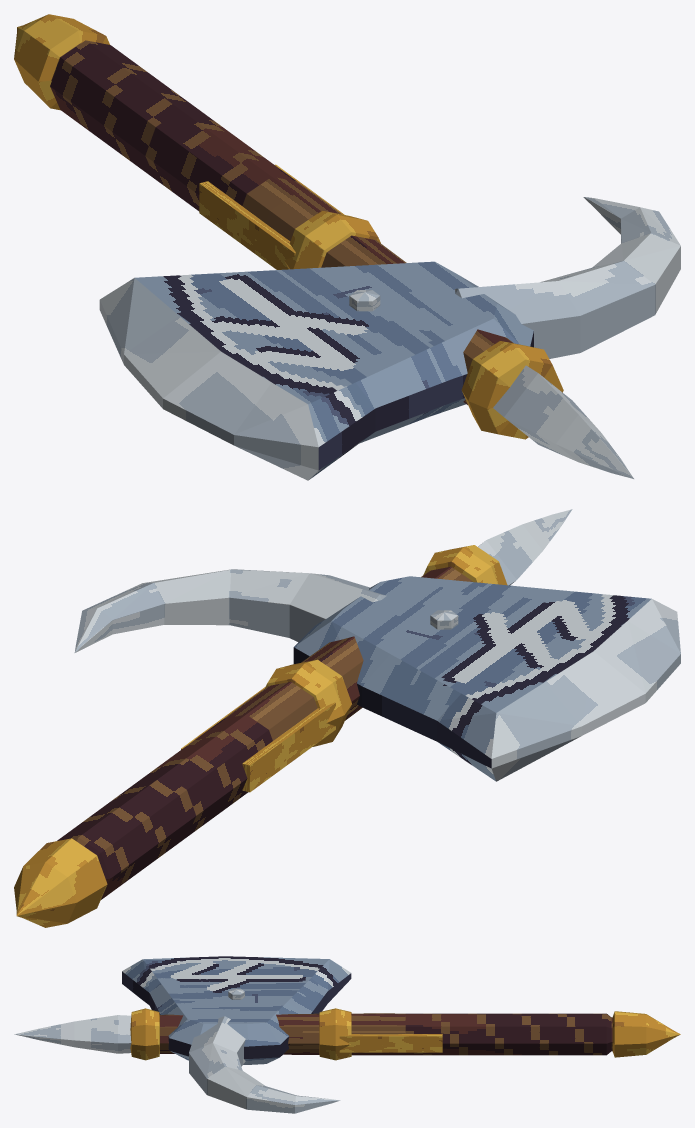
The model's file is axt-c2-rune.glb.
3 views of the same model, one above another, from view 1: azimuth 30°, elevation 25°; view 2: azimuth 150°, elevation 25°; view 3: azimuth 270°, elevation 25° (orthographic). The views are drawn at different scales.
Visible parts, largest first — view 1: axe; view 2: axe; view 3: axe.
Boxes of the visible parts, <box> form: axe: <box>14,14,680,480</box>; axe: <box>14,509,680,927</box>; axe: <box>14,956,680,1113</box>.
Bounding box in the file's own units: 0.318 × 0.056 × 0.6066.
1 material, 1 textured.
